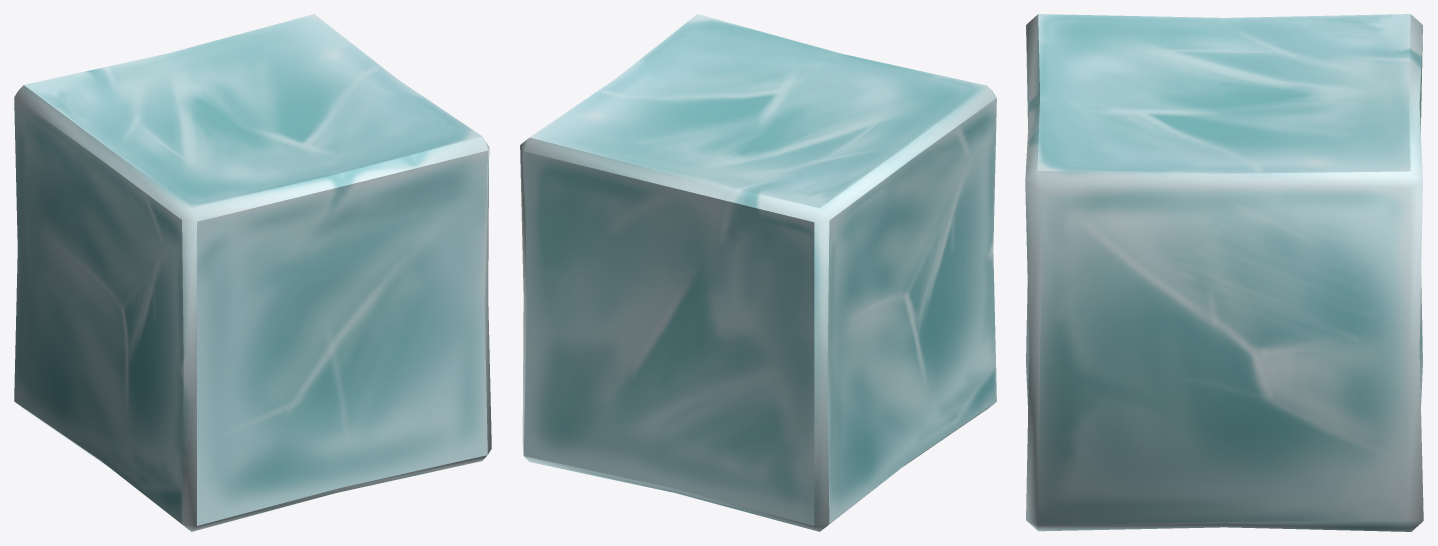
File: ice.FBX
3 views of the same model, side by side, from view 1: azimuth 30°, elevation 25°; view 2: azimuth 150°, elevation 25°; view 3: azimuth 270°, elevation 25° (orthographic). The views are drawn at different scales.
Parts seen in each view (by area): view 1: ice; view 2: ice; view 3: ice.
Boxes of the visible parts, x1=… form: ice: x1=14, y1=14, x2=491, y2=531; ice: x1=520, y1=14, x2=996, y2=531; ice: x1=1025, y1=14, x2=1423, y2=531.
Size of the model in its own units: 33.12 by 33.23 by 33.23.
